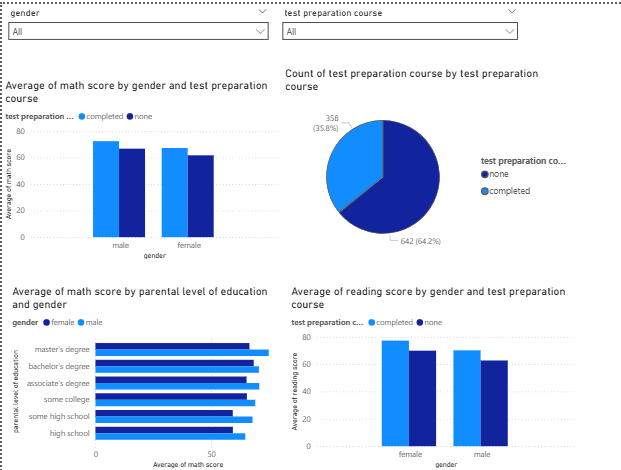

This screenshot's page, from the dashboard's own definition file:
{"tool":"powerbi","page":{"name":"Page 2","canvas":[1280,720],"ordinal":0},"visuals":[{"type":"clusteredColumnChart","fields":{"Category":["StudentsPerformance.gender"],"Y":["Avg(StudentsPerformance.math score)"],"Series":["StudentsPerformance.test preparation course"]},"box":[0,115,430.2,282.3],"z":0},{"type":"pieChart","fields":{"Category":["StudentsPerformance.test preparation course"],"Y":["CountNonNull(StudentsPerformance.test preparation course)"]},"box":[430.2,97.1,446.6,300.2],"z":1000},{"type":"clusteredBarChart","fields":{"Category":["StudentsPerformance.parental level of education"],"Y":["Avg(StudentsPerformance.math score)"],"Series":["StudentsPerformance.gender"]},"box":[10,433,430,287],"z":2000},{"type":"clusteredColumnChart","fields":{"Category":["StudentsPerformance.gender"],"Y":["Avg(StudentsPerformance.reading score)"],"Series":["StudentsPerformance.test preparation course"]},"box":[440,433,447,287],"z":3000},{"type":"slicer","fields":{"Values":["StudentsPerformance.gender"]},"box":[0,0,419.8,97.1],"z":3001},{"type":"slicer","fields":{"Values":["StudentsPerformance.test preparation course"]},"box":[421.7,0,381.9,96.4],"z":3002}]}

Visuals, with their boxes on the page's 1280x720 design canvas (x1, y1, x2, y2). These are canvas units, not pixel positions in the 621x470 screenshot, which may show the page scaled, cropped or inside an application window:
clusteredColumnChart - StudentsPerformance.gender x Avg(StudentsPerformance.math score): 0:115:430:397
pieChart - StudentsPerformance.test preparation course x CountNonNull(StudentsPerformance.test preparation course): 430:97:877:397
clusteredBarChart - StudentsPerformance.parental level of education x Avg(StudentsPerformance.math score): 10:433:440:720
clusteredColumnChart - StudentsPerformance.gender x Avg(StudentsPerformance.reading score): 440:433:887:720
slicer - StudentsPerformance.gender: 0:0:420:97
slicer - StudentsPerformance.test preparation course: 422:0:804:96
